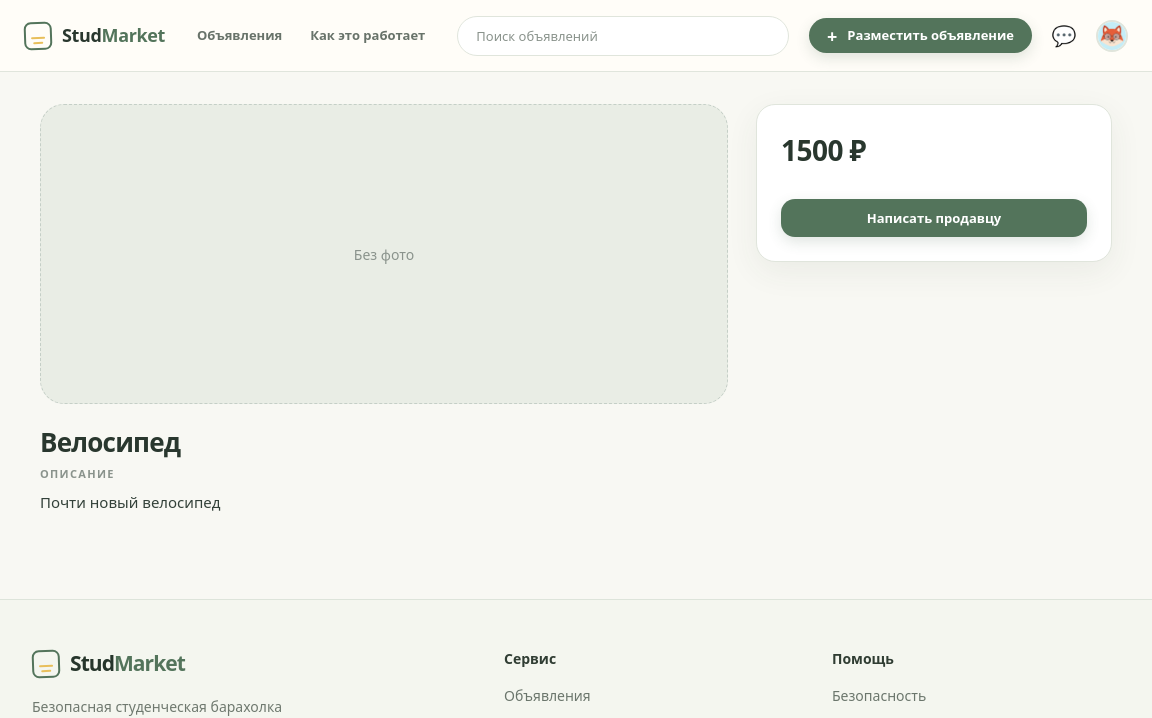
Test: ListingDetailPage › creates a conversation and navigates to the chat when "Написать продавцу" is clicked
This screenshot has width=1152, height=718.
Click the button "Написать продавцу" at (934, 218), box top-left (781, 199), bottom-right (1087, 237)
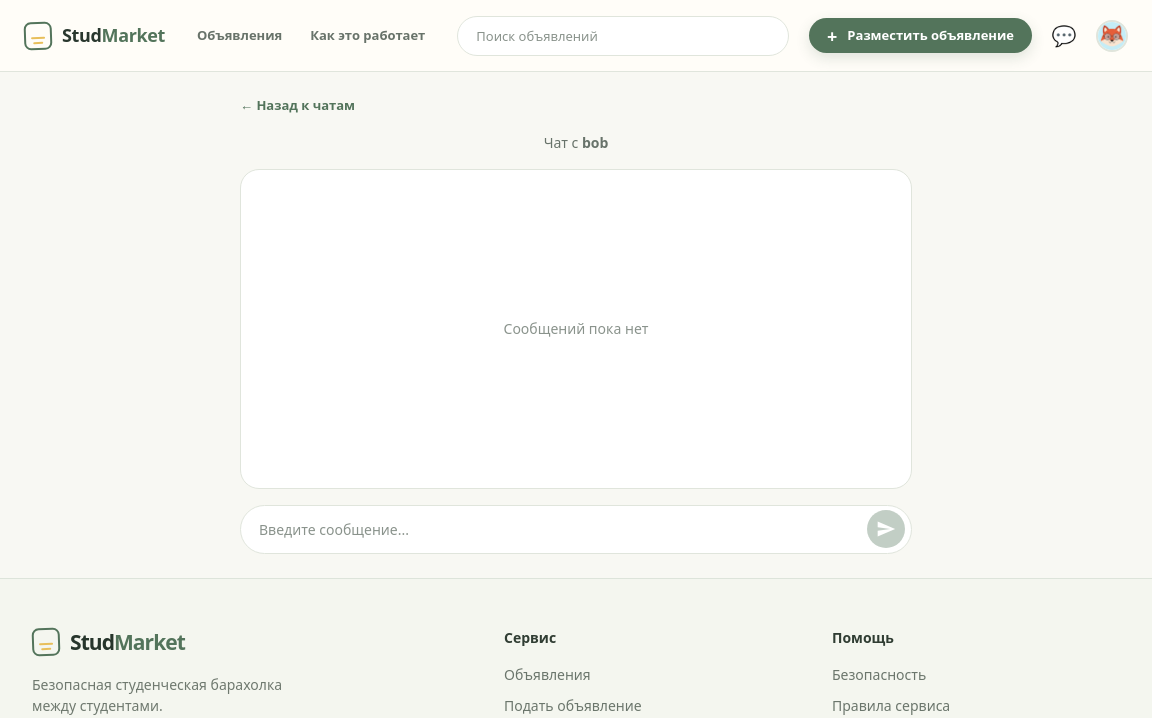
Expected: the text "Сообщений пока нет" is shown, top-left (504, 318), bottom-right (648, 339)
